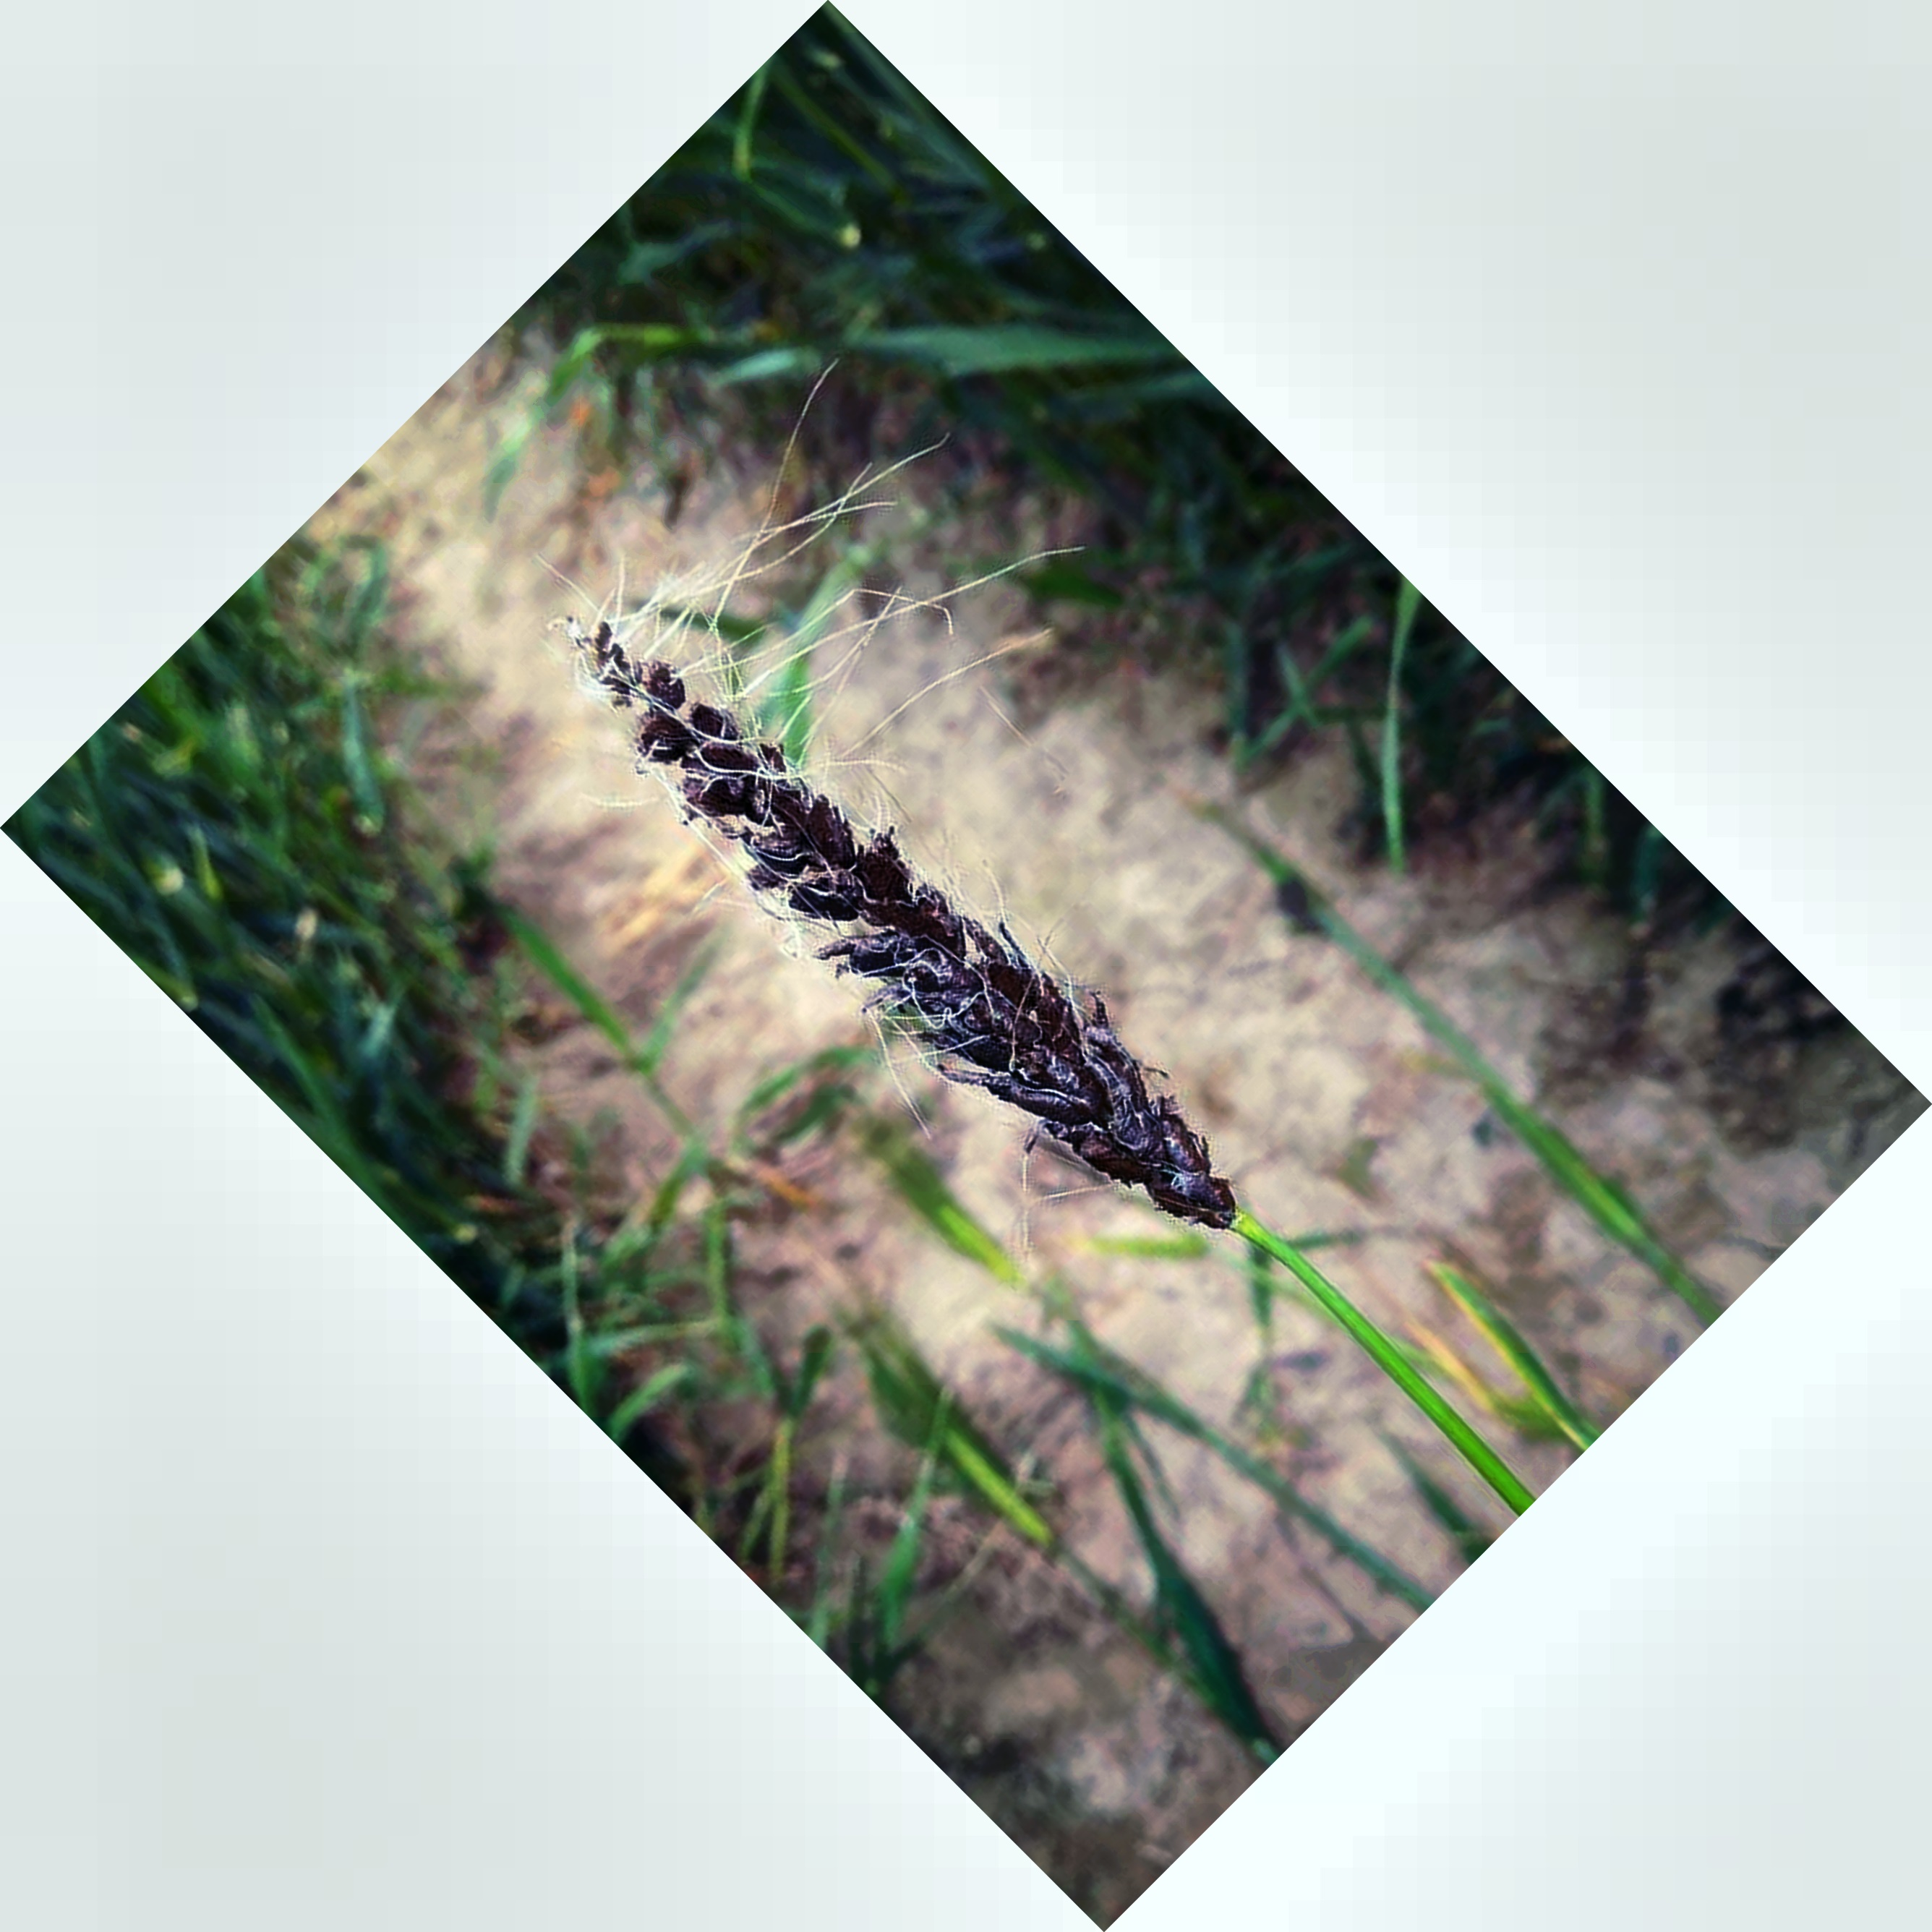Wheat Loose Smut: (570, 575, 1177, 1162)
